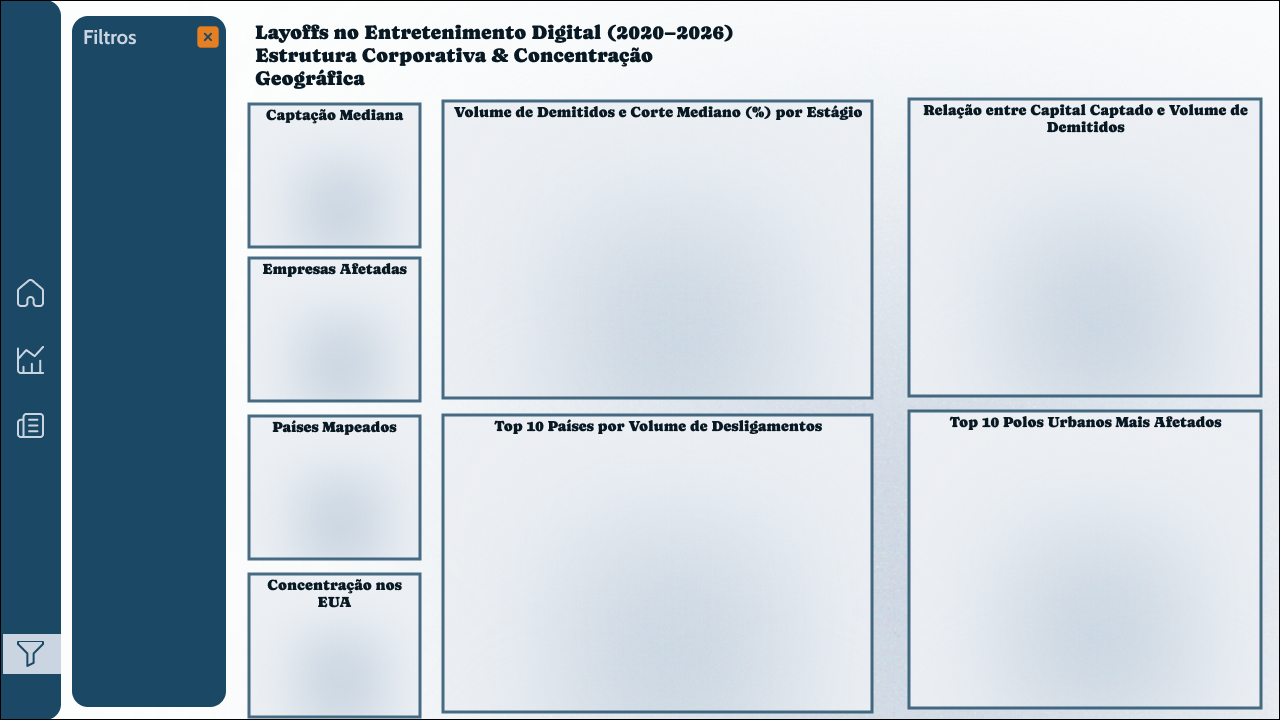

The page's visual inventory and layout, read from the dashboard file:
{"tool":"powerbi","page":{"name":"Concentração Geográfica","canvas":[1920,1080],"ordinal":2},"visuals":[{"type":"group","id":"g1","title":"Padrão","box":[0,0,1920,1080],"z":0},{"type":"image","box":[0,0,1920,1080],"z":0,"group":"g1"},{"type":"cardVisual","fields":{"Data":["layoffs.Captacao_Mediana"]},"box":[120,144,288,216],"z":1000,"group":"g1"},{"type":"cardVisual","fields":{"Data":["layoffs.Empresas_Unicas"]},"box":[120,384,288,216],"z":2000,"group":"g1"},{"type":"cardVisual","fields":{"Data":["layoffs.Paises_Mapeados"]},"box":[120,624,288,192],"z":3000,"group":"g1"},{"type":"cardVisual","fields":{"Data":["layoffs.Concentracao_EUA_Pct"]},"box":[120,864,288,192],"z":4000,"group":"g1"},{"type":"actionButton","title":"Painel Filtros","box":[7,945,72,72],"z":4000},{"type":"lineStackedColumnComboChart","fields":{"Category":["layoffs.stage"],"Y":["Sum(layoffs.total_laid_off)"],"Y2":["layoffs.Corte_Mediano"]},"box":[456,192,768,384],"z":5000,"group":"g1"},{"type":"actionButton","title":"Painel Navegação","box":[7,505,72,72],"z":5000},{"type":"scatterChart","fields":{"Category":["layoffs.company"],"Series":["layoffs.industry"],"X":["Sum(layoffs.funds_raised)"],"Y":["Sum(layoffs.total_laid_off)"]},"box":[1272,192,624,384],"z":6000,"group":"g1"},{"type":"pageNavigator","title":"Sobre o Case","box":[12,608,60,60],"z":6000},{"type":"pageNavigator","title":"Home","box":[22,418,60,60],"z":7000},{"type":"clusteredBarChart","fields":{"Category":["layoffs.country"],"Y":["Sum(layoffs.total_laid_off)"]},"box":[456,648,768,408],"z":7000,"group":"g1"},{"type":"clusteredBarChart","fields":{"Category":["layoffs.location"],"Y":["Sum(layoffs.total_laid_off)"]},"box":[1296,648,576,408],"z":8000,"group":"g1"}]}

Visuals, with their boxes on the page's 1920x1080 design canvas (x1, y1, x2, y2). These are canvas units, not pixel positions in the 1280x720 screenshot, which may show the page scaled, cropped or inside an application window:
"Padrão" group: select_region(0, 0, 1920, 1080)
image: select_region(0, 0, 1920, 1080)
cardVisual - layoffs.Captacao_Mediana: select_region(120, 144, 408, 360)
cardVisual - layoffs.Empresas_Unicas: select_region(120, 384, 408, 600)
cardVisual - layoffs.Paises_Mapeados: select_region(120, 624, 408, 816)
cardVisual - layoffs.Concentracao_EUA_Pct: select_region(120, 864, 408, 1056)
"Painel Filtros" actionButton: select_region(7, 945, 79, 1017)
lineStackedColumnComboChart - layoffs.stage x Sum(layoffs.total_laid_off): select_region(456, 192, 1224, 576)
"Painel Navegação" actionButton: select_region(7, 505, 79, 577)
scatterChart - layoffs.company x layoffs.industry: select_region(1272, 192, 1896, 576)
"Sobre o Case" pageNavigator: select_region(12, 608, 72, 668)
"Home" pageNavigator: select_region(22, 418, 82, 478)
clusteredBarChart - layoffs.country x Sum(layoffs.total_laid_off): select_region(456, 648, 1224, 1056)
clusteredBarChart - layoffs.location x Sum(layoffs.total_laid_off): select_region(1296, 648, 1872, 1056)
